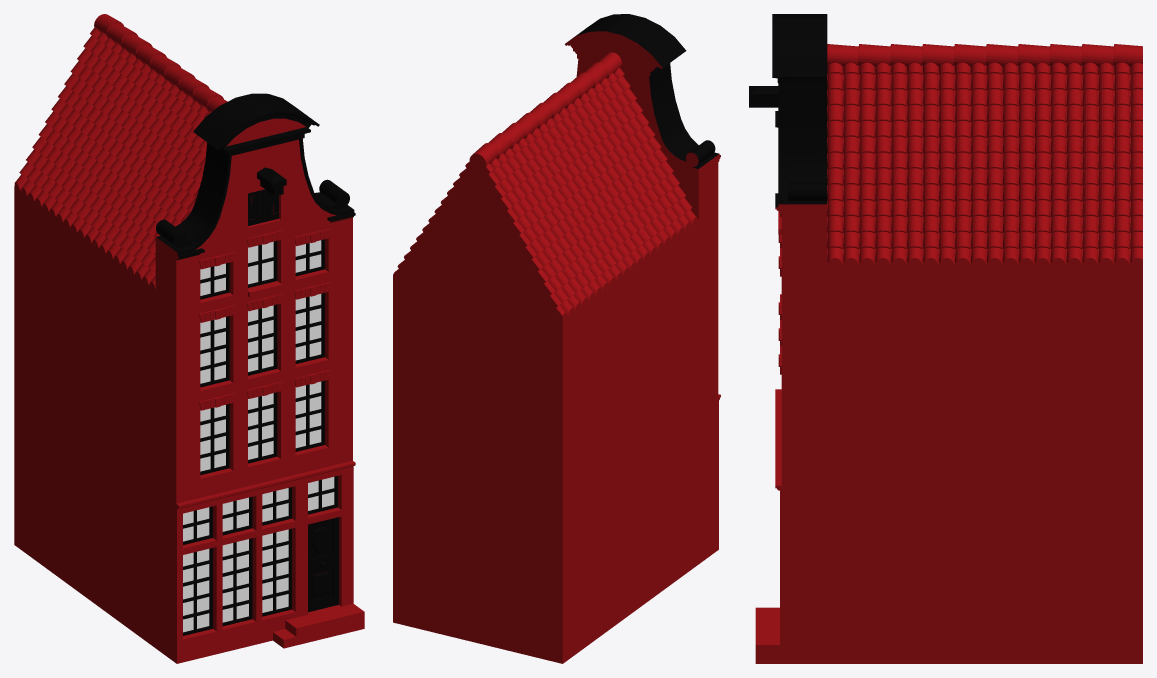
File: amsterdam1.glb
3 renders of one model, left to right at view 1: azimuth 30°, elevation 25°; view 2: azimuth 150°, elevation 25°; view 3: azimuth 270°, elevation 25°, orthographic. The views are drawn at different scales.
Parts seen in each view (by area): view 1: House, Bell_Gable, Roof, Windows, Frames, Entrance, Head, Door, Stairs, Wood; view 2: House, Roof, Bell_Gable, Head; view 3: House, Roof, Bell_Gable, Head, Stairs.
Boxes of the visible parts, x1,y1,x2,y2 form: House: (14,186,155,647); Bell_Gable: (155,118,355,663); Roof: (14,14,227,289); Windows: (183,240,334,632); Frames: (183,239,337,635); Entrance: (177,466,353,663); Head: (156,93,355,259); Door: (308,517,338,612); Stairs: (273,603,364,648); Wood: (248,189,279,225); House: (393,184,698,663); Roof: (393,52,697,319); Bell_Gable: (565,31,720,563); Head: (568,14,720,168); House: (827,262,1142,663); Roof: (827,44,1142,263); Bell_Gable: (755,204,827,663); Head: (749,14,827,207); Stairs: (755,607,779,644).
Bounding box in the file's own units: 5 × 14.37 × 8.64.
